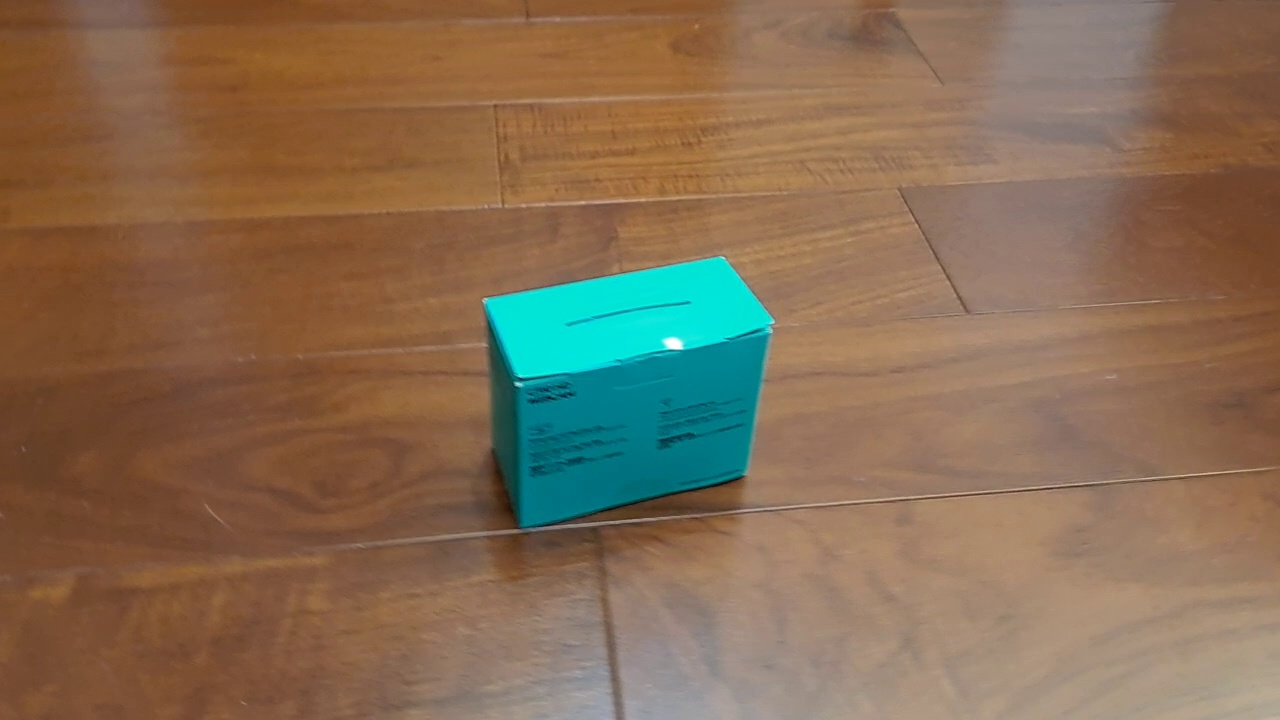webcam: (479, 253, 776, 533)
